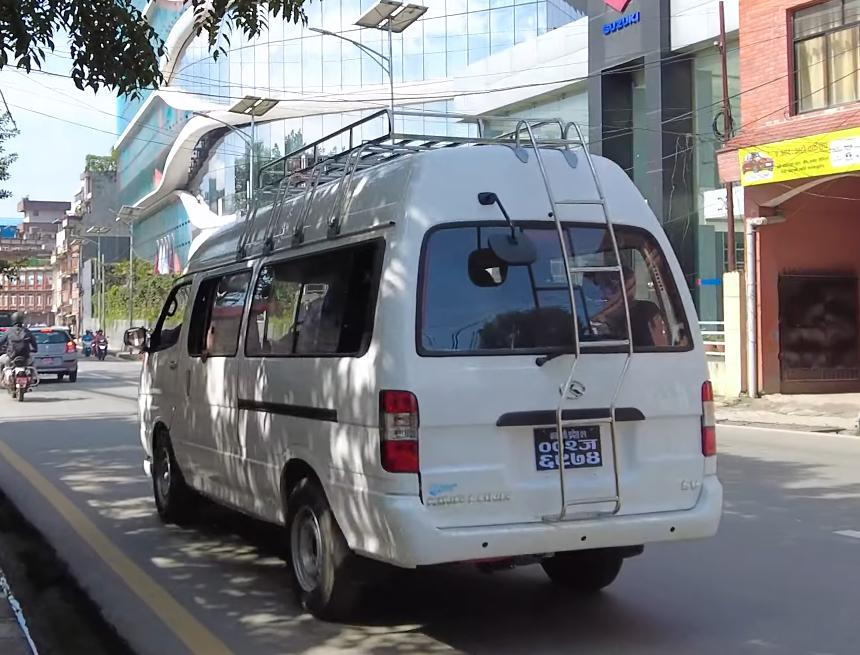bike: (0, 346, 41, 402)
car: (23, 323, 81, 386)
micro_bus: (126, 102, 723, 628)
